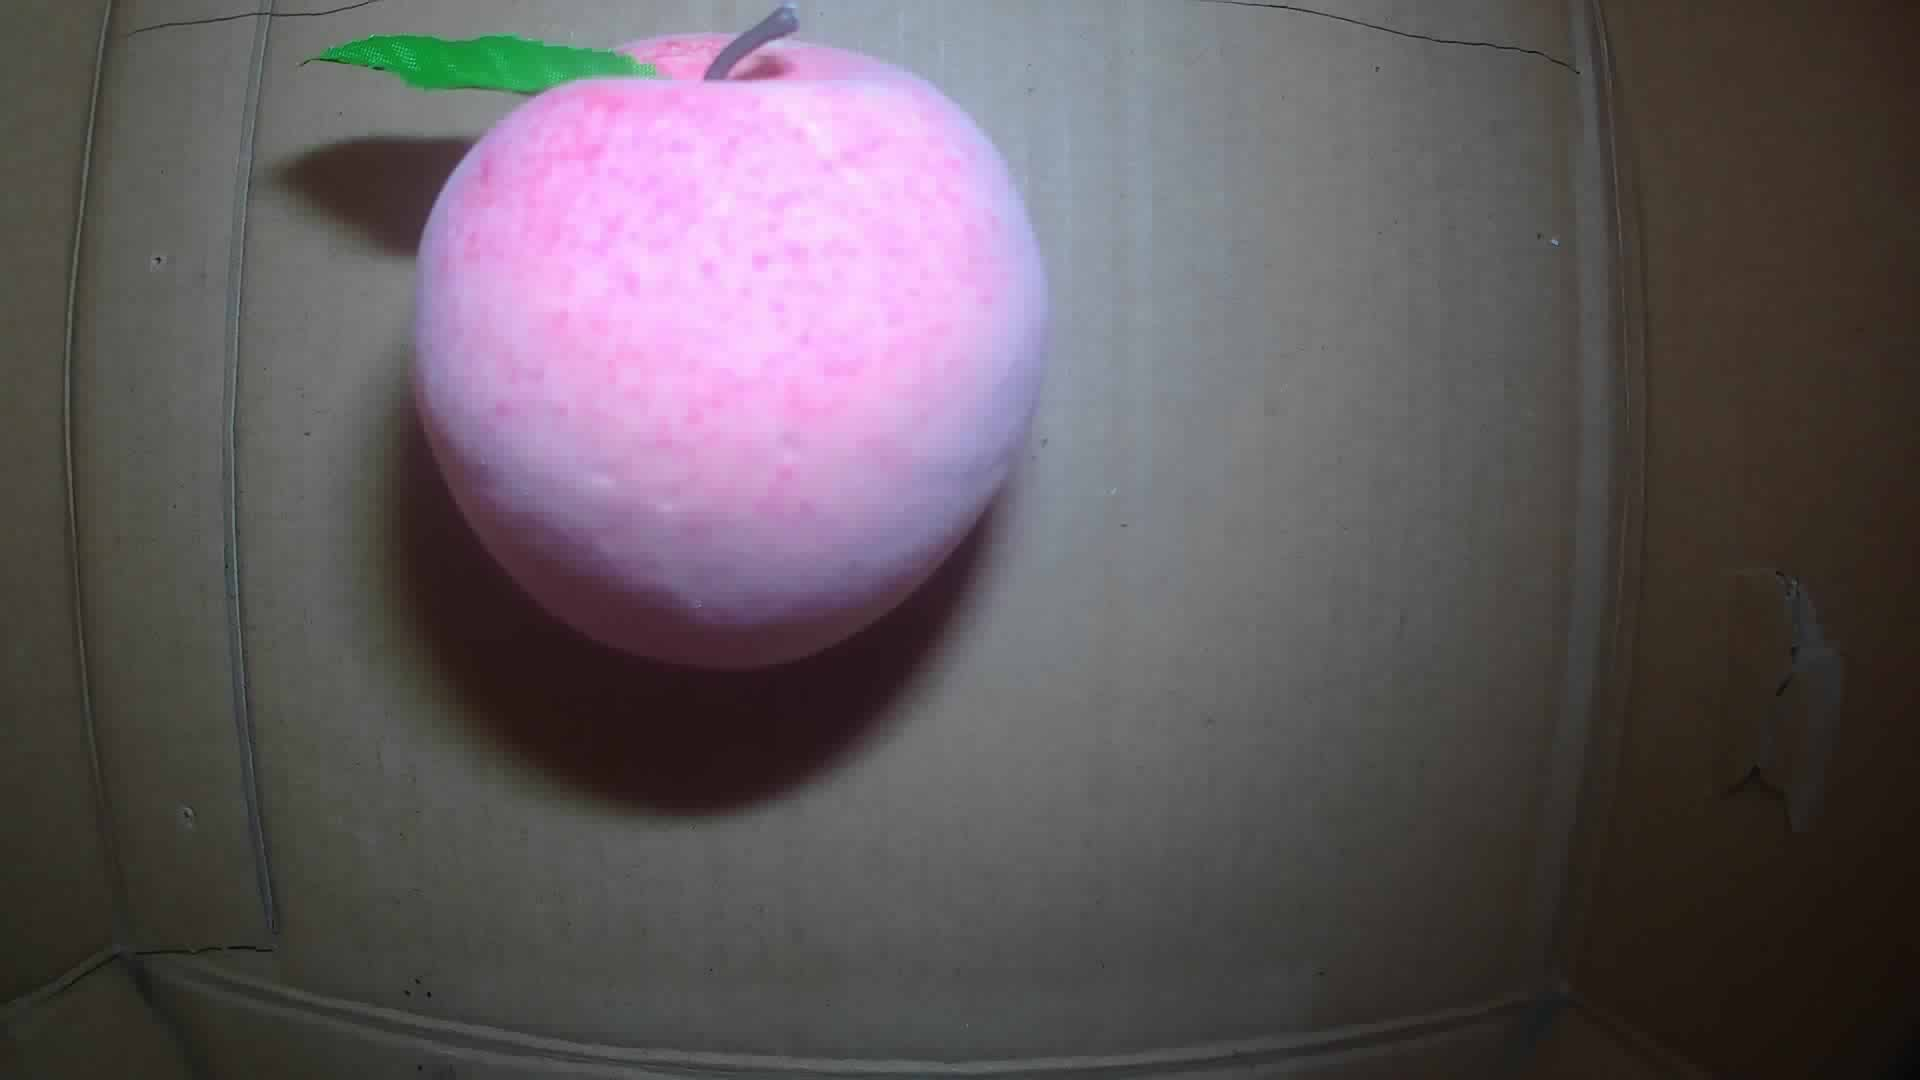peach: (406, 3, 1048, 666)
